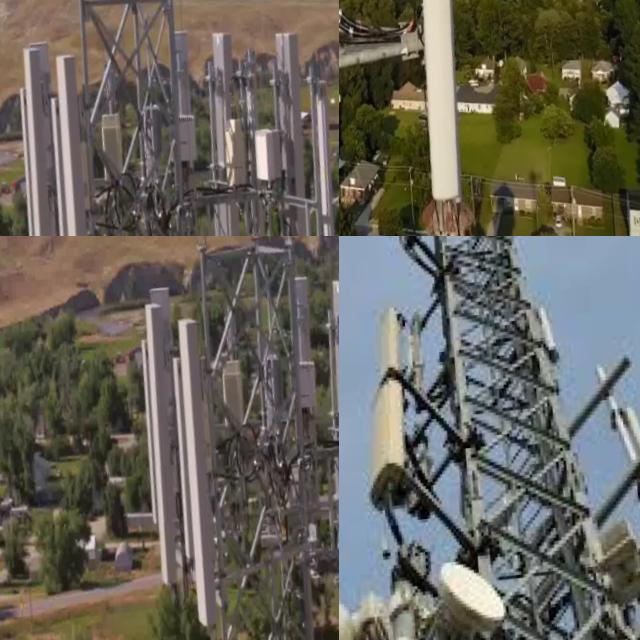GSM Antenna: (159, 311, 251, 637), (125, 291, 218, 606), (193, 10, 284, 236), (1, 20, 94, 236), (33, 27, 125, 236), (255, 9, 339, 236), (277, 266, 339, 496), (130, 333, 180, 528), (358, 378, 428, 516), (162, 21, 219, 189), (308, 254, 339, 546), (426, 0, 470, 202), (3, 66, 54, 236), (303, 71, 339, 236), (372, 293, 419, 392), (97, 96, 138, 180), (218, 347, 257, 430)
Microwave Antenna: (430, 544, 534, 640), (339, 585, 391, 640)
